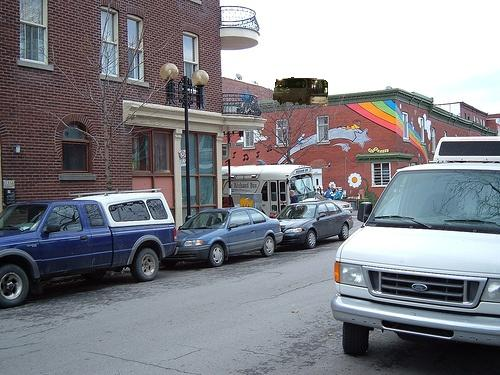tampered: (274, 78, 328, 105)
